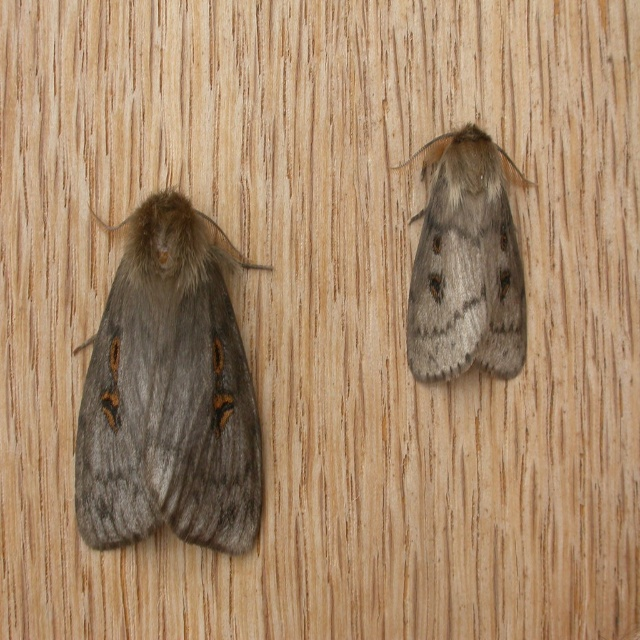Moths and butterflies: (69, 185, 276, 559), (390, 118, 543, 390)
